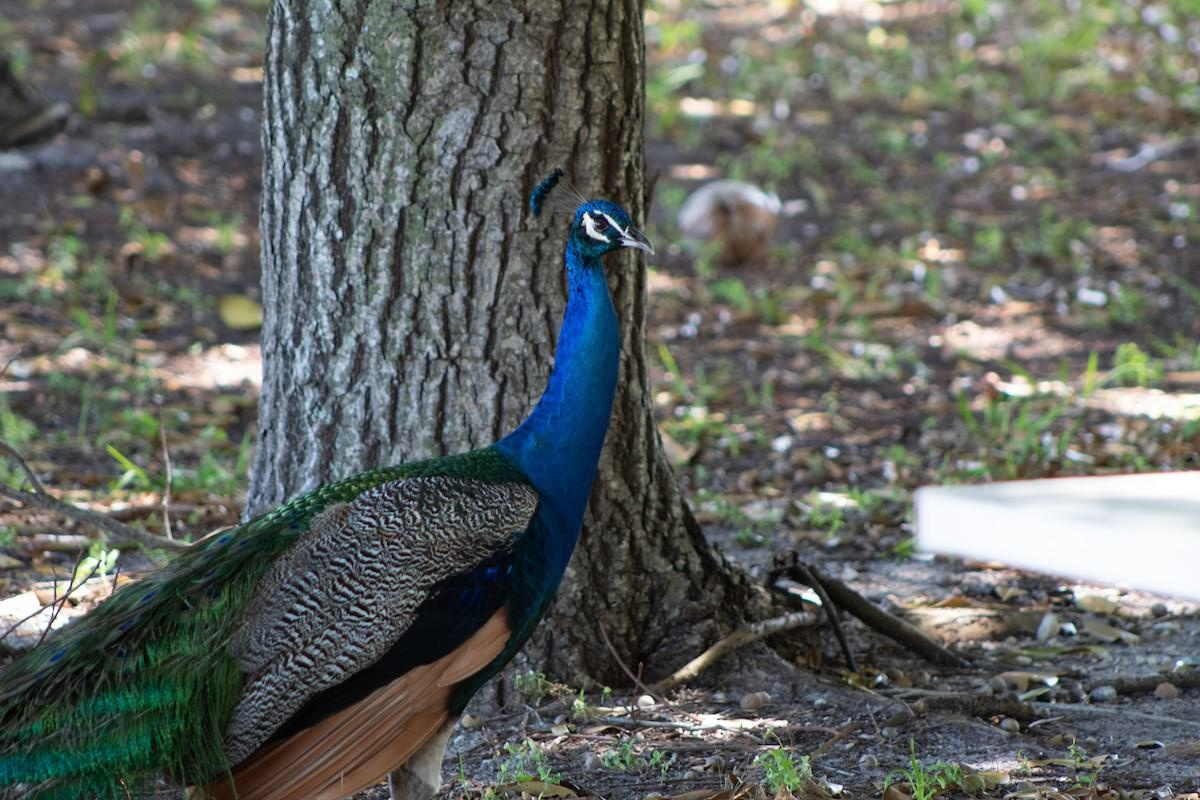peacock: (1, 185, 710, 800)
